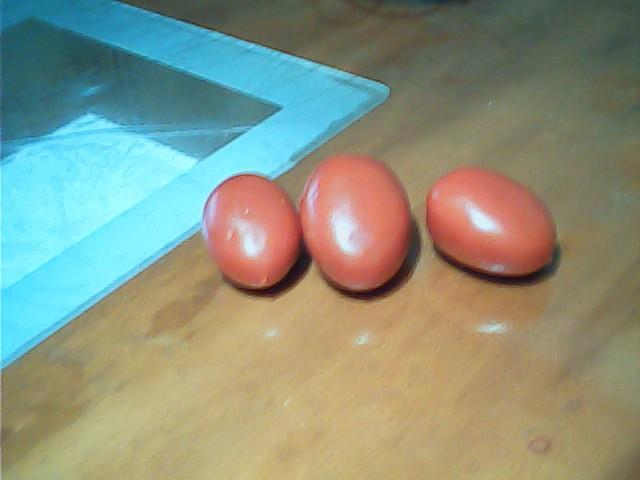maduro: (425, 164, 559, 282), (301, 154, 412, 290), (200, 169, 303, 290)
